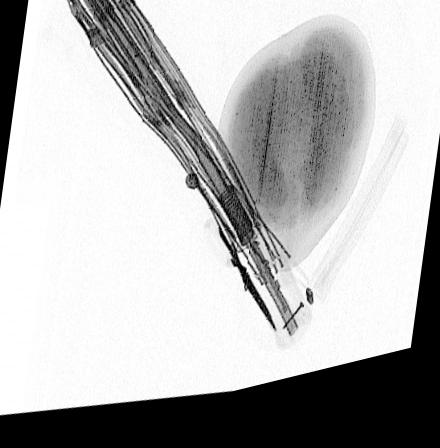Scissors: (218, 224, 280, 350)
